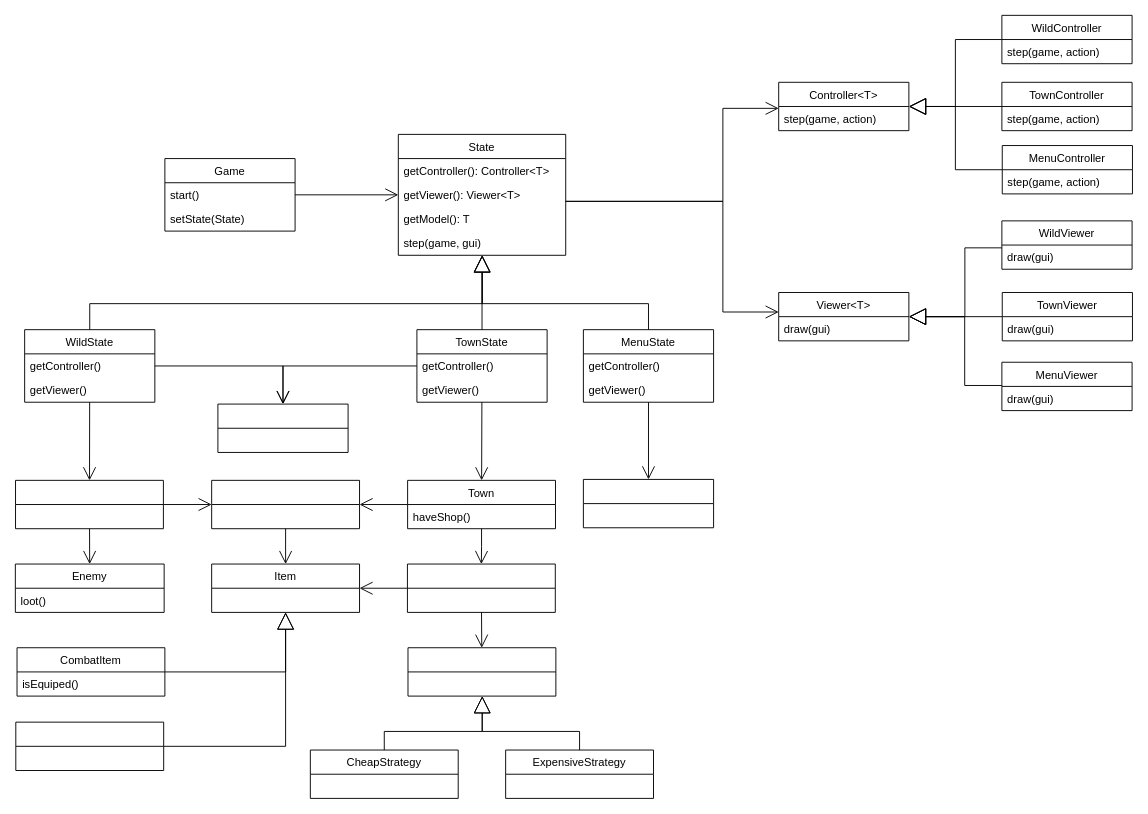
Image size: 1148x814. Some labels were removed from this diagram. The shapes that lost their labels are listed below. From the top down, each one's centre as x and y in pixels, then its label:
(x=282, y=427): TextSection
(x=89, y=504): Wild
(x=285, y=504): Player
(x=648, y=503): Menu
(x=481, y=587): Shop
(x=481, y=671): ShopStrategy
(x=89, y=746): PotionItem
